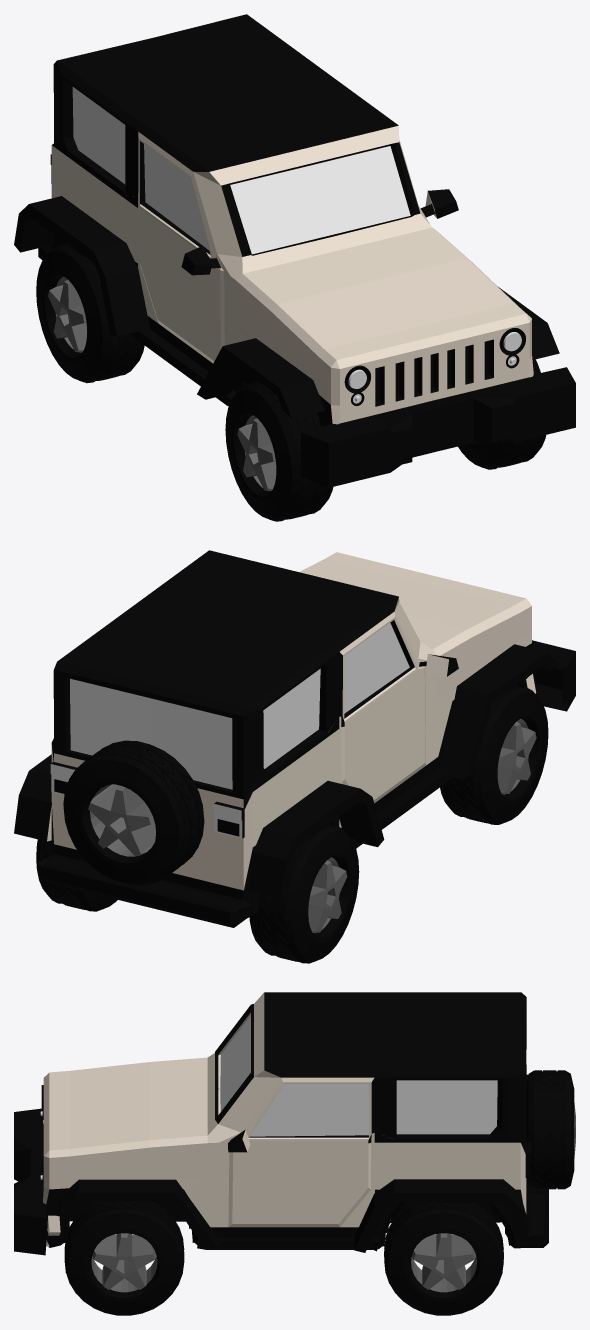
Rendered from earl_jeepwrangler.fbx.
3 renders of one model, top to bottom at view 1: azimuth 30°, elevation 25°; view 2: azimuth 150°, elevation 25°; view 3: azimuth 270°, elevation 25°, orthographic. The views are drawn at different scales.
Visible parts, largest first — view 1: Car, FR Tyre, RR Tyre, FL Tyre; view 2: Car, Spare Tyre, RR Tyre, FR Tyre, RL Tyre; view 3: Car, FL Tyre, RL Tyre, Spare Tyre.
Part boxes in pixels (left/top/right/bottom): Car: left=14, top=14, right=575, bottom=487; FR Tyre: left=225, top=381, right=333, bottom=521; RR Tyre: left=36, top=243, right=144, bottom=383; FL Tyre: left=458, top=359, right=546, bottom=469; Car: left=14, top=550, right=575, bottom=927; Spare Tyre: left=63, top=740, right=204, bottom=885; RR Tyre: left=249, top=824, right=359, bottom=963; FR Tyre: left=440, top=685, right=548, bottom=824; RL Tyre: left=36, top=839, right=117, bottom=911; Car: left=14, top=992, right=548, bottom=1255; FL Tyre: left=64, top=1201, right=184, bottom=1315; RL Tyre: left=384, top=1203, right=503, bottom=1315; Spare Tyre: left=526, top=1070, right=575, bottom=1189.
Size of the model in its own units: 187 by 185 by 403.
